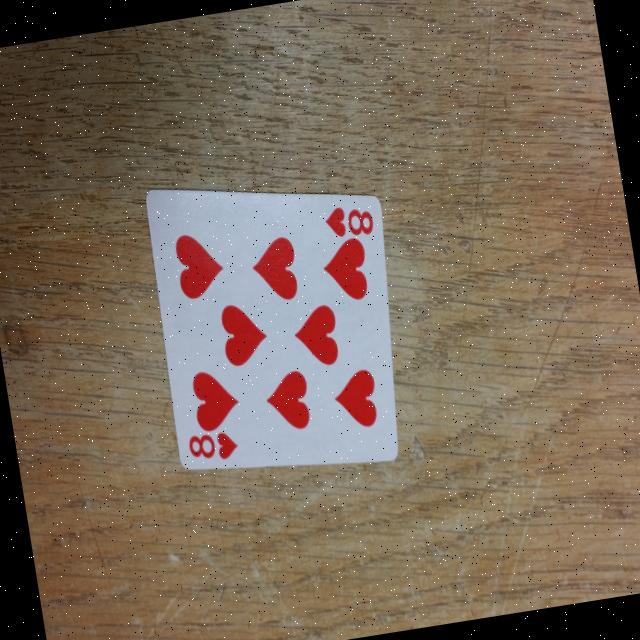8h: (316, 190, 386, 253), (182, 418, 244, 468)
